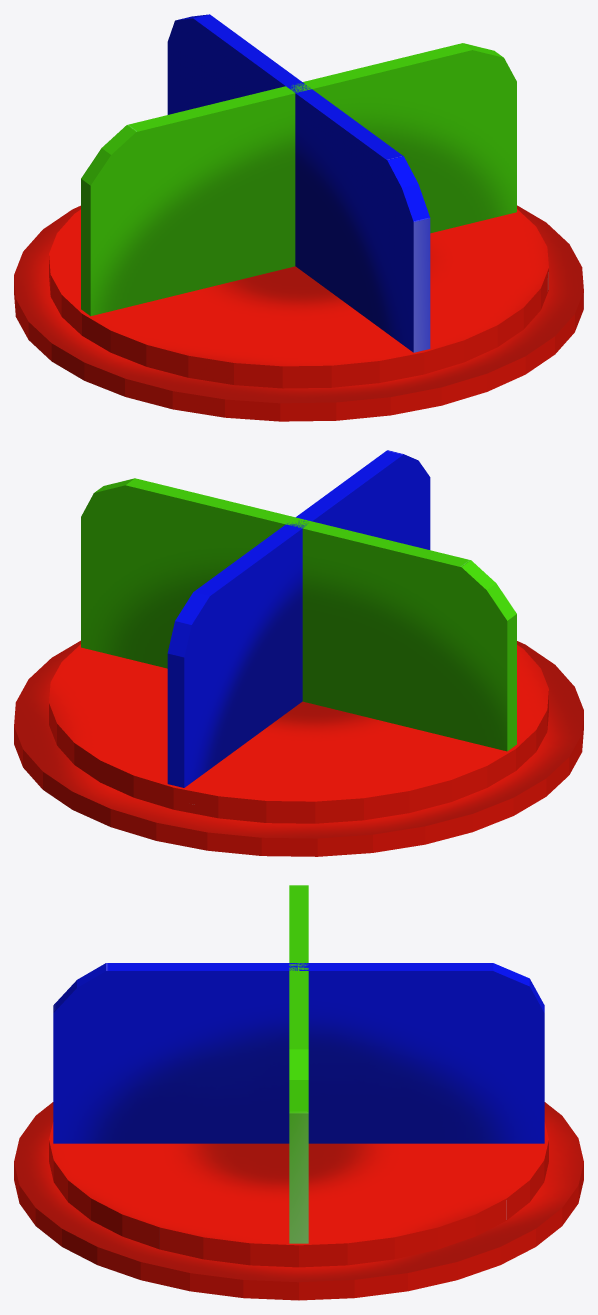
File: Ruleta_prefab.fbx
The picture shows the model from 3 angles, top to bottom: view 1: azimuth 30°, elevation 25°; view 2: azimuth 150°, elevation 25°; view 3: azimuth 270°, elevation 25°; orthographic projection.
Visible parts, largest first — view 1: Cylinder, Cube, Cube.001; view 2: Cylinder, Cube, Cube.001; view 3: Cube.001, Cylinder, Cube.
Boxes of the visible parts, box(x1,y1,x2,y2) form: Cylinder: box(14, 205, 583, 421); Cube: box(81, 43, 516, 316); Cube.001: box(167, 14, 430, 352); Cylinder: box(14, 640, 583, 856); Cube: box(81, 478, 516, 751); Cube.001: box(167, 450, 430, 787); Cube.001: box(53, 963, 544, 1143); Cylinder: box(14, 1102, 583, 1300); Cube: box(289, 885, 308, 1243).
Bounding box in the file's own units: 591 × 244 × 591.
3 materials, 3 textured.
